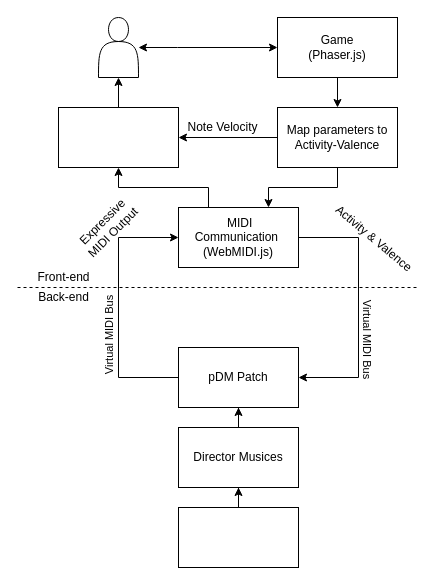
This 439x585 diagram has some shape labels left out. Each missing label, with the box of its shape:
MIDI file: (178, 506, 298, 568)
Playback (Tone.js): (58, 106, 178, 168)
User: (98, 16, 138, 78)
